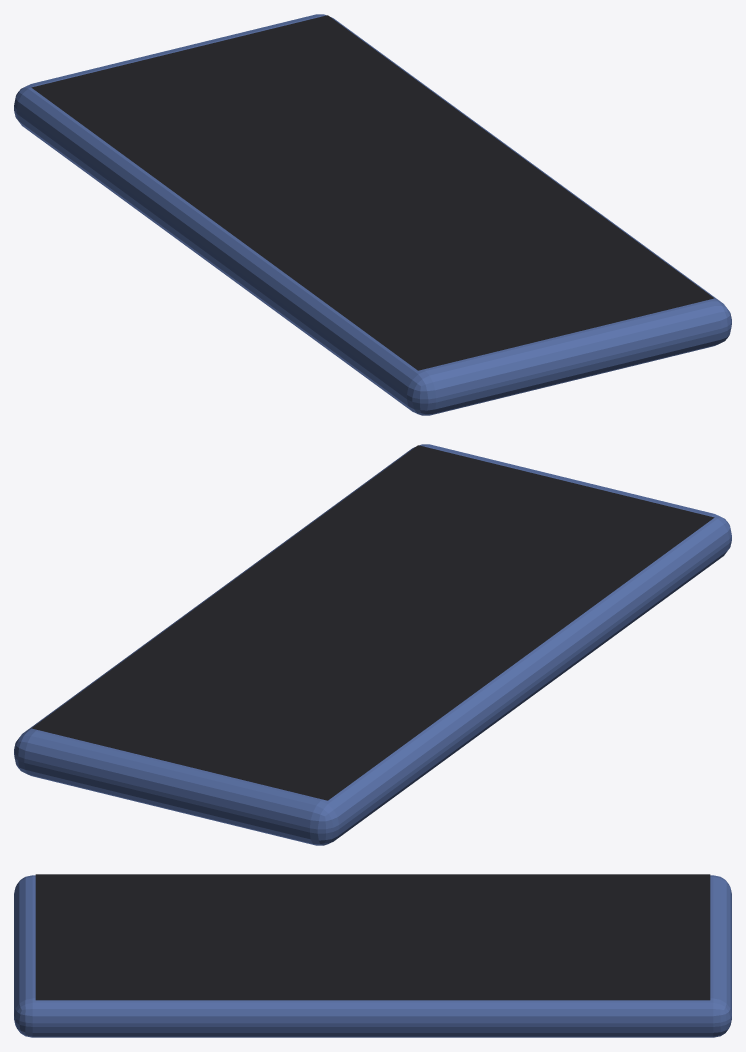
Rendered from Phone_782.glb.
3 renders of one model, top to bottom at view 1: azimuth 30°, elevation 25°; view 2: azimuth 150°, elevation 25°; view 3: azimuth 270°, elevation 25°, orthographic. The views are drawn at different scales.
Parts seen in each view (by area): view 1: Phone_Screen, Phone_Body; view 2: Phone_Screen, Phone_Body; view 3: Phone_Screen, Phone_Body.
Part boxes in pixels (bbox=[...]): Phone_Screen: bbox=[31, 15, 714, 370]; Phone_Body: bbox=[14, 14, 731, 415]; Phone_Screen: bbox=[31, 445, 714, 800]; Phone_Body: bbox=[14, 444, 731, 845]; Phone_Screen: bbox=[35, 874, 710, 1000]; Phone_Body: bbox=[14, 875, 731, 1037].
Size of the model in its own units: 0.0705 by 0.0091 by 0.1559.
